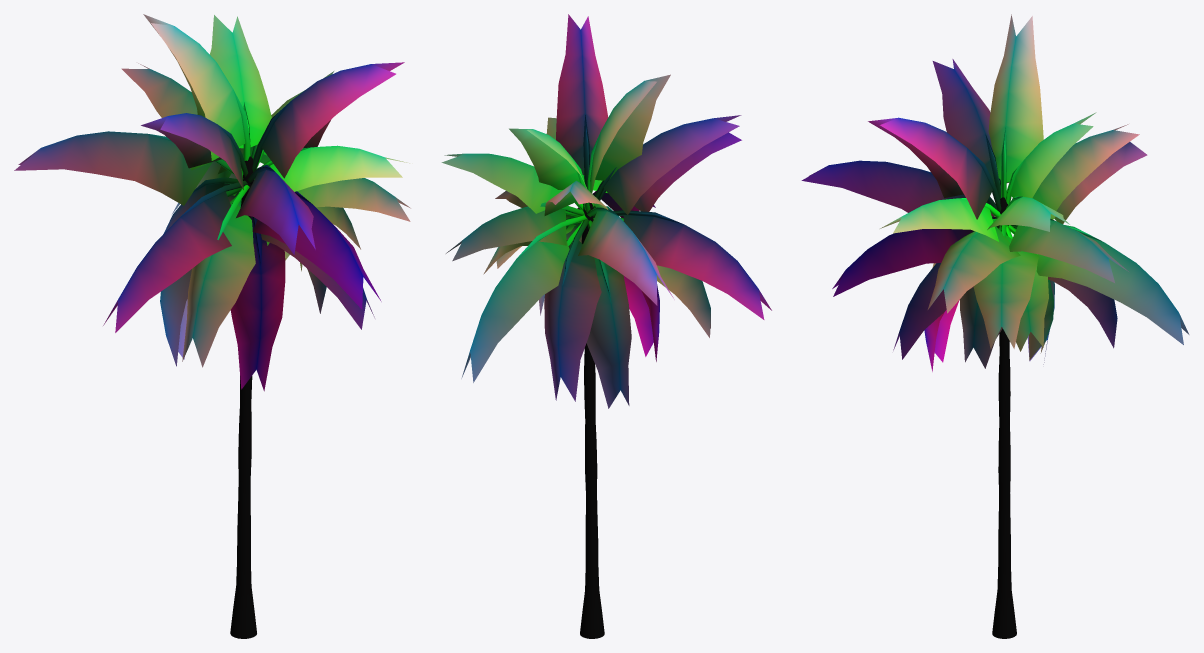
File: M_Palm_1_4.fbx
The picture shows the model from 3 angles, left to right: view 1: azimuth 30°, elevation 25°; view 2: azimuth 150°, elevation 25°; view 3: azimuth 270°, elevation 25°; orthographic projection. The views are drawn at different scales.
Visible parts, largest first — view 1: Palm_1_4; view 2: Palm_1_4; view 3: Palm_1_4.
Boxes of the visible parts, x1,y1,x2,y2 form: Palm_1_4: [14, 14, 410, 638]; Palm_1_4: [441, 14, 771, 638]; Palm_1_4: [801, 14, 1189, 638].
Bounding box in the file's own units: 480 × 961 × 583.
